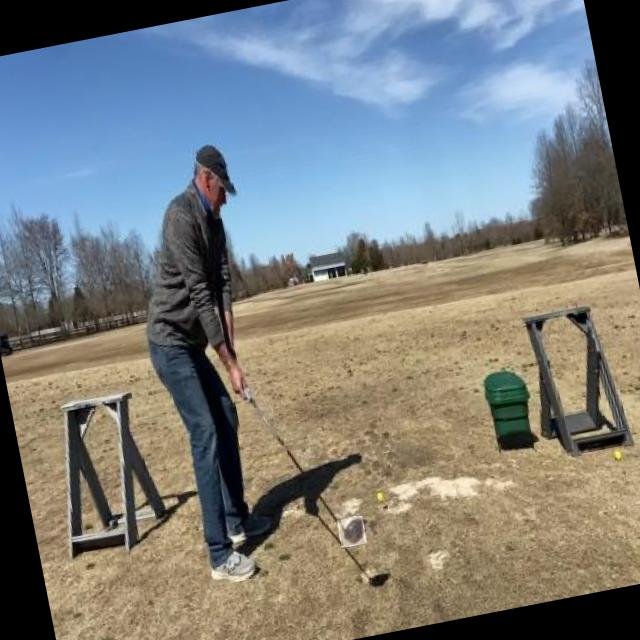club head: (337, 516, 368, 548)
